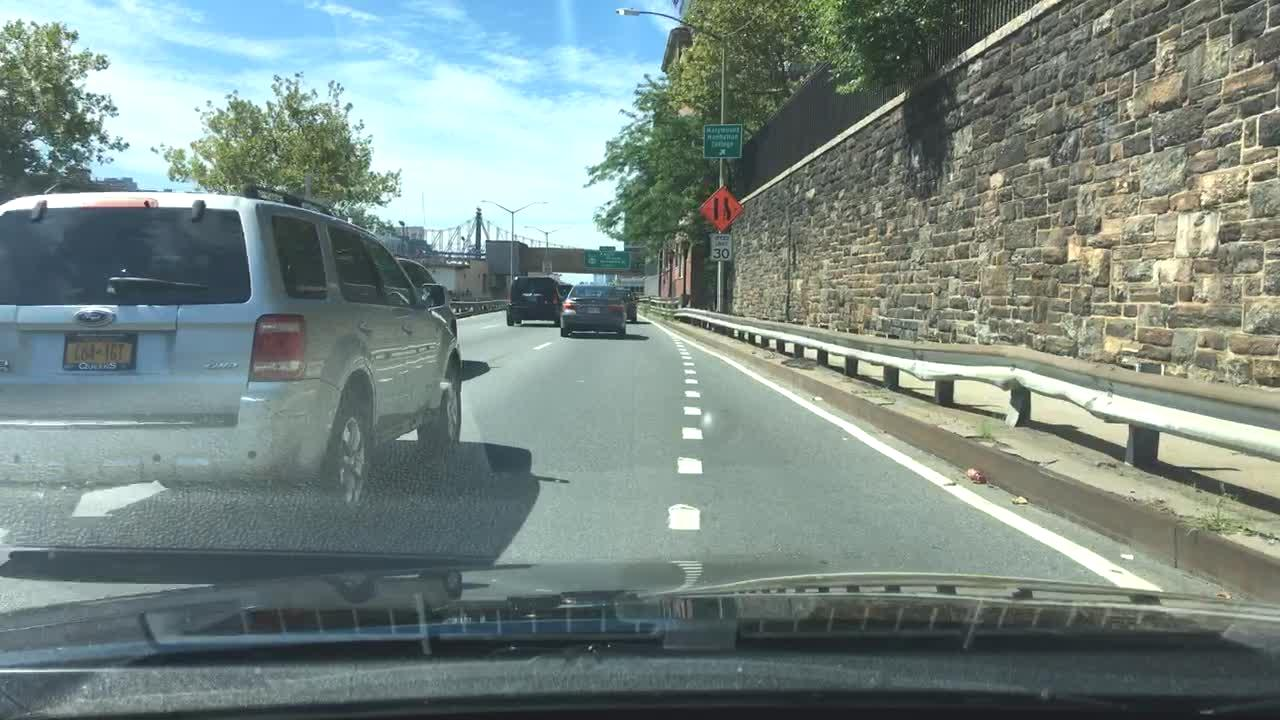ford: (63, 300, 124, 331)
